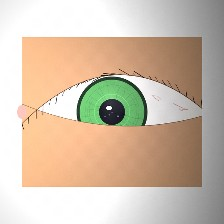pinguecula_lesion: (52, 107, 84, 132)
